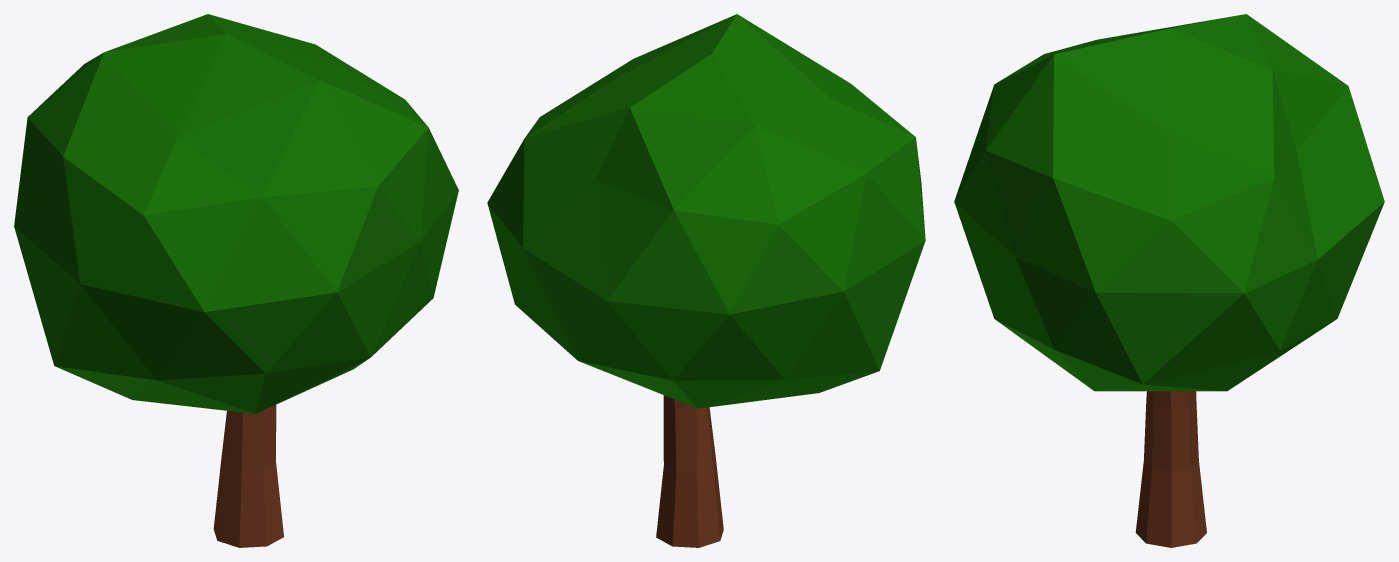
The model's file is Tree2, Mid.fbx.
3 views of the same model, side by side, from view 1: azimuth 30°, elevation 25°; view 2: azimuth 150°, elevation 25°; view 3: azimuth 270°, elevation 25° (orthographic). The views are drawn at different scales.
Parts seen in each view (by area): view 1: Tree2; view 2: Tree2; view 3: Tree2.
Part boxes in pixels (x1=…): Tree2: x1=14, y1=14, x2=458, y2=547; Tree2: x1=487, y1=14, x2=925, y2=547; Tree2: x1=954, y1=14, x2=1384, y2=547.
Size of the model in its own units: 345 by 437 by 346.
